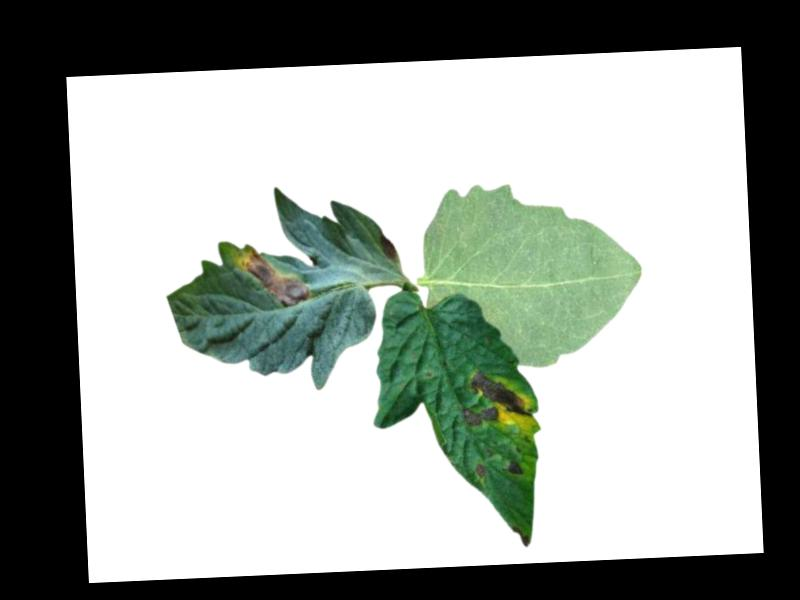Early_blight: (236, 242, 312, 310), (459, 366, 532, 428), (512, 523, 532, 548), (507, 457, 527, 477), (473, 462, 488, 474)
healthy: (410, 175, 652, 372)
